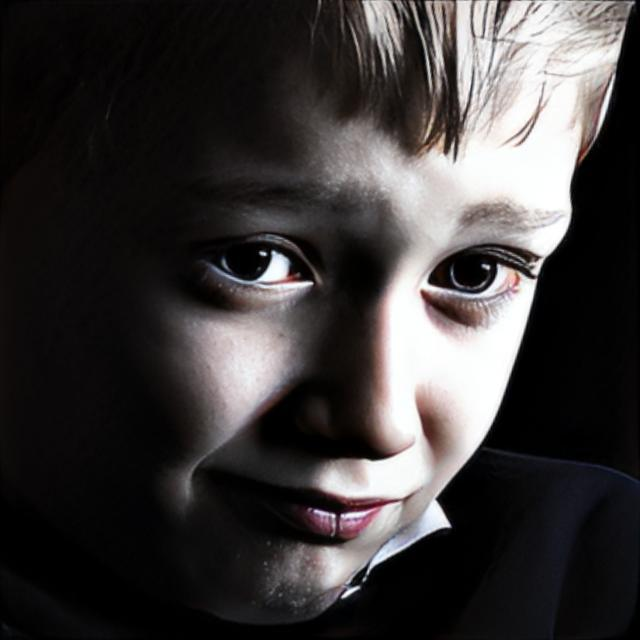sad: (0, 0, 587, 629)
